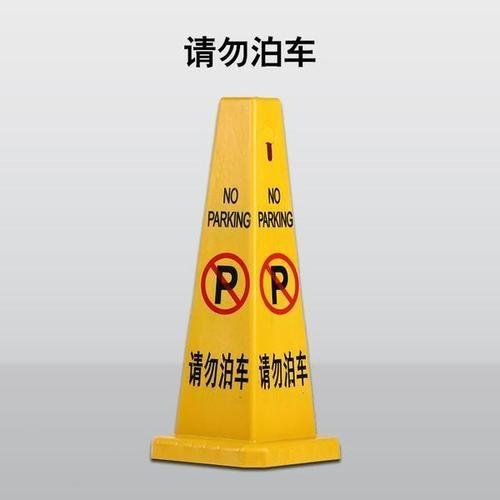cone_barrel: (146, 100, 347, 469)
